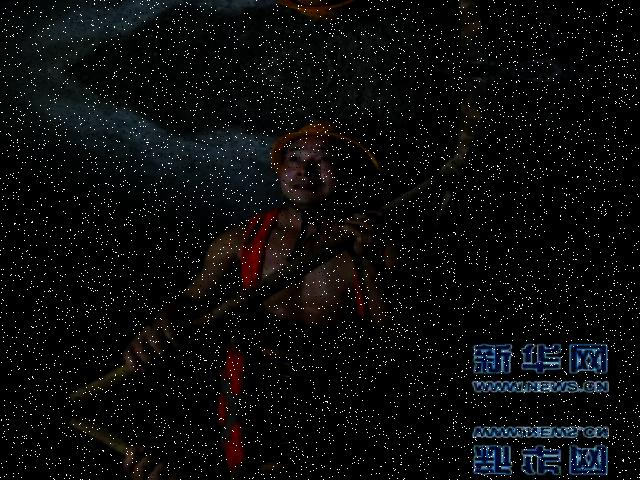Helmet: (264, 112, 388, 191)
